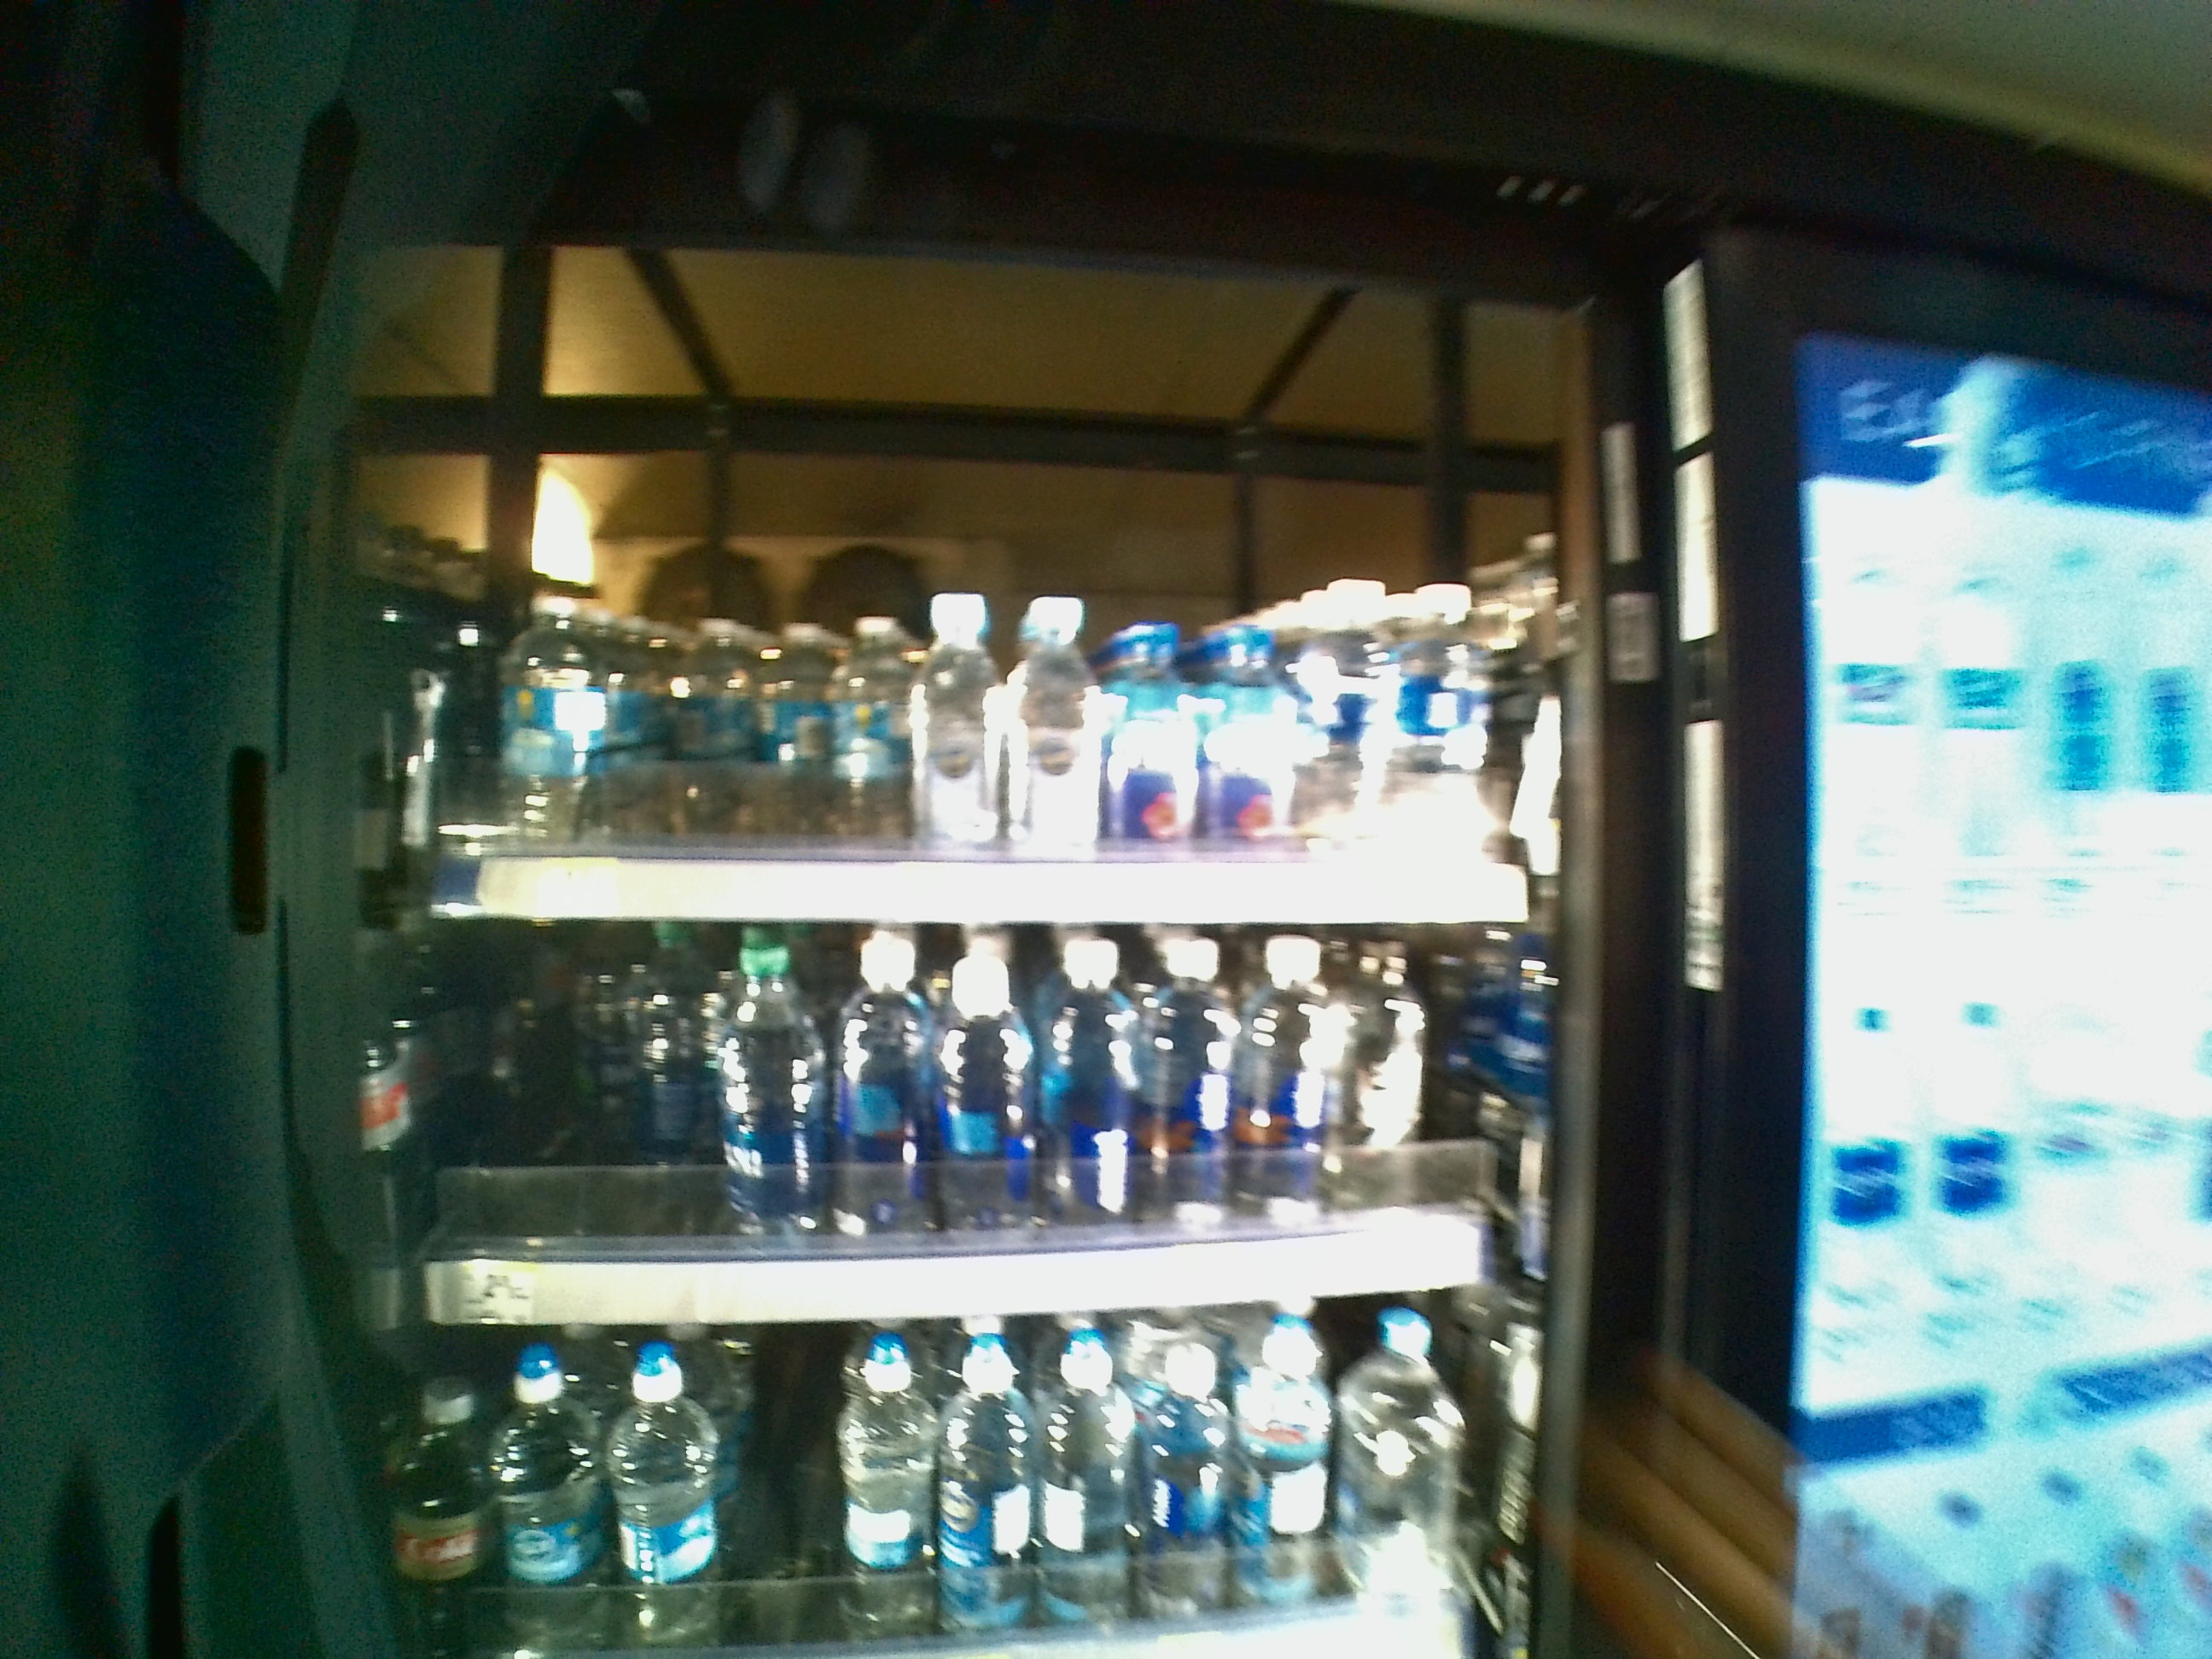shelf: (340, 230, 1578, 924), (334, 924, 1550, 1326)
